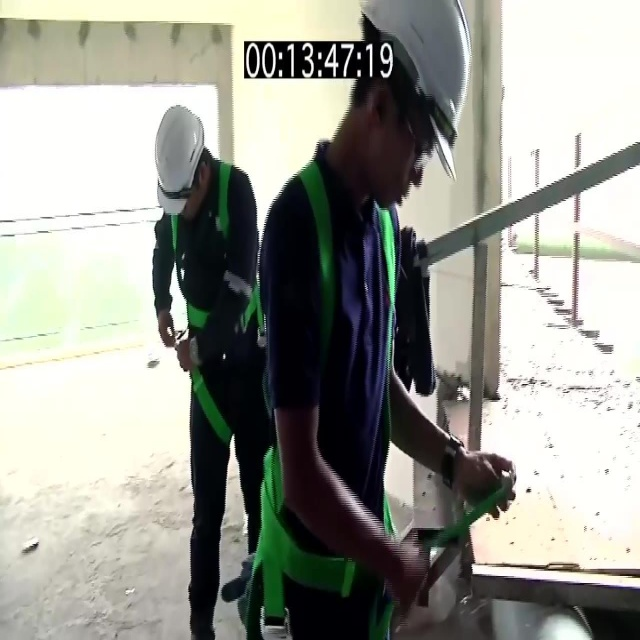Arnes_seguridad: (261, 166, 399, 622), (171, 162, 234, 442)
